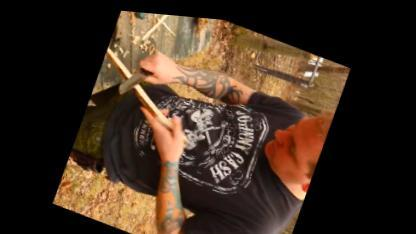knife: (112, 36, 176, 110)
